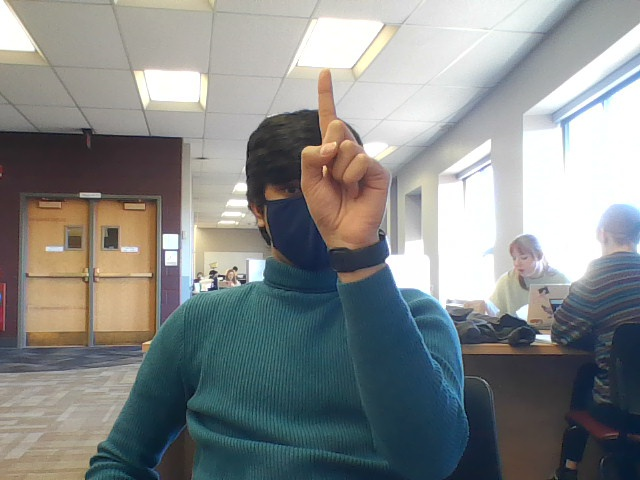one: (292, 62, 407, 263)
